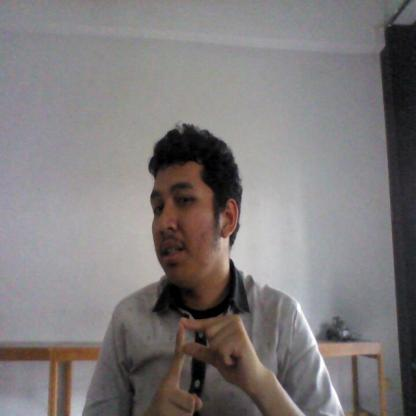P: (148, 304, 263, 414)
